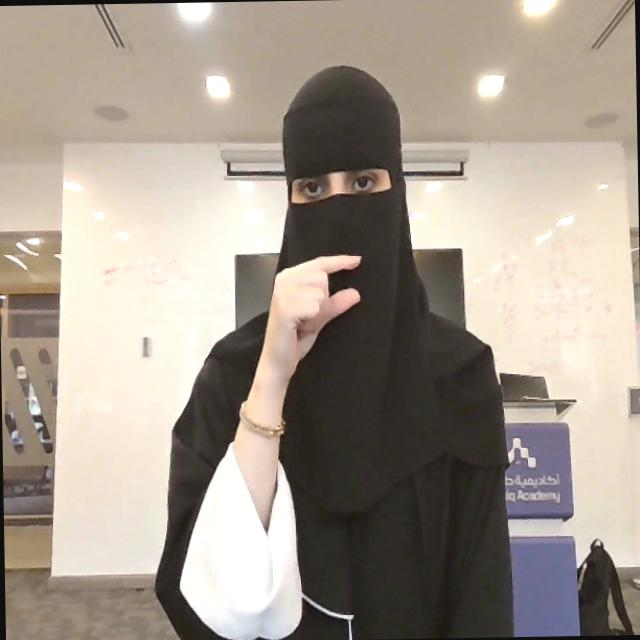fasting: (260, 251, 363, 372)
